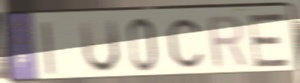0: (125, 15, 160, 74)
C: (165, 16, 205, 70)
E: (246, 11, 292, 69)
I: (38, 19, 58, 78)
R: (204, 13, 251, 71)
U: (77, 16, 122, 75)
